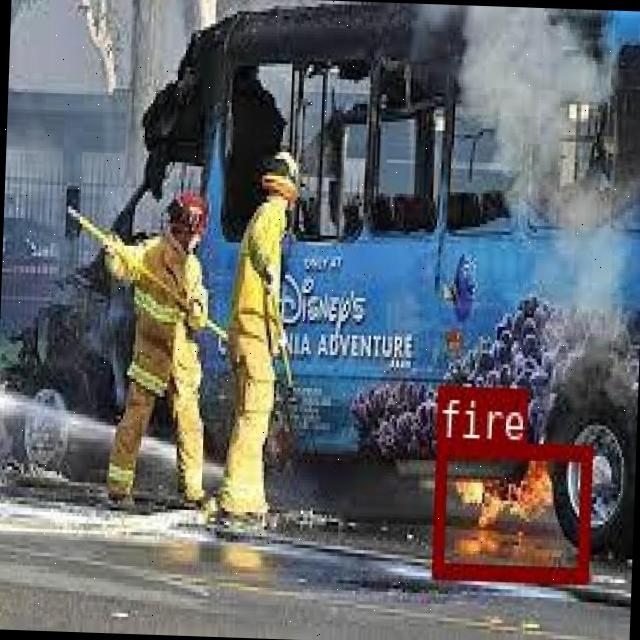fire: (430, 437, 589, 578)
